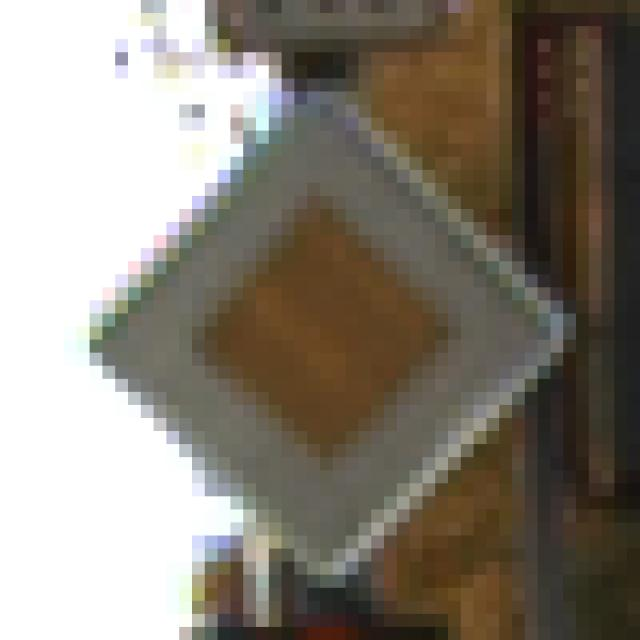Main Road: (65, 66, 564, 576)
